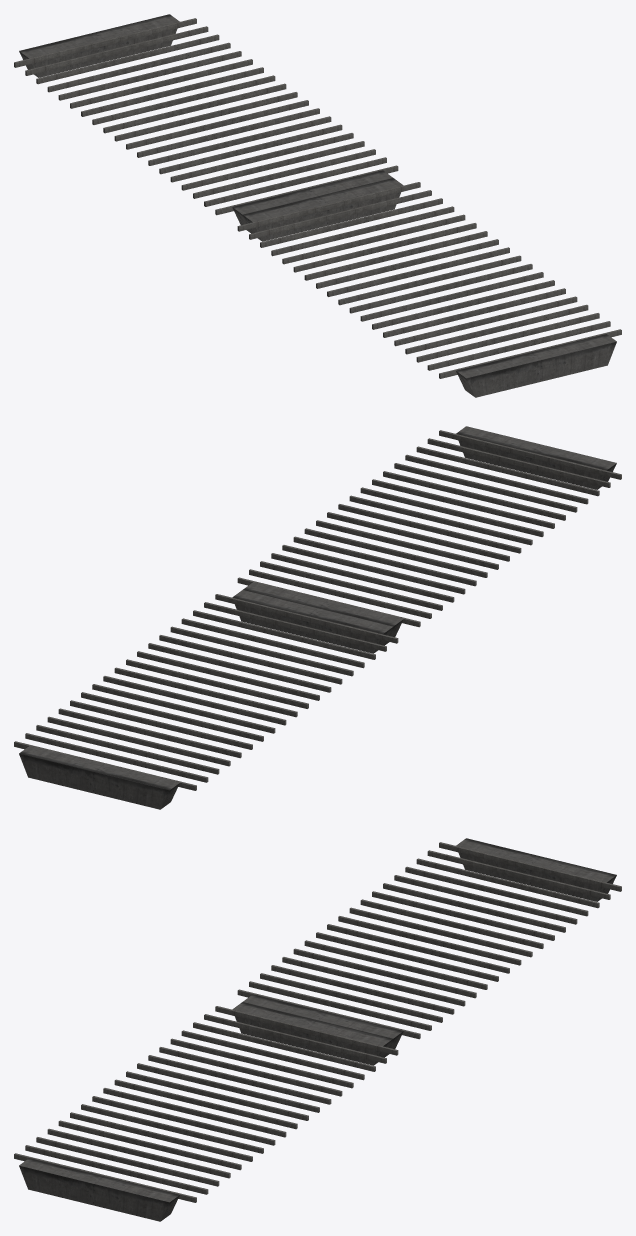
File: deck_full.fbx
The picture shows the model from 3 angles, top to bottom: view 1: azimuth 30°, elevation 25°; view 2: azimuth 150°, elevation 25°; view 3: azimuth 330°, elevation 25°; orthographic projection.
Parts seen in each view (by area): view 1: 12DR_ELV.001; view 2: 12DR_ELV.001; view 3: 12DR_ELV.001.
Part boxes in pixels (x1,y1,x2,y2): 12DR_ELV.001: [14, 14, 621, 397]; 12DR_ELV.001: [14, 426, 621, 809]; 12DR_ELV.001: [14, 838, 621, 1221].
Bounding box in the file's own units: 1500 × 171 × 6400.
